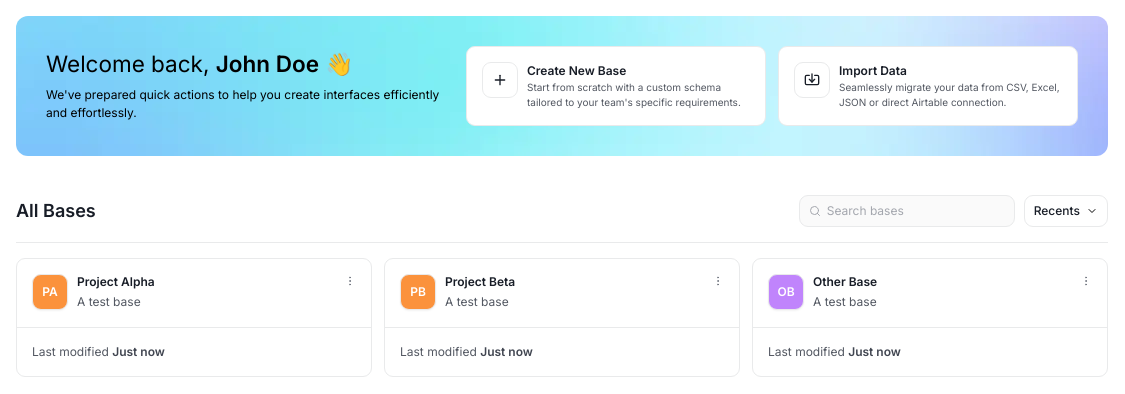
Test: HomePage › Search and Filter › should filter bases by search term in title
Type "Alpha" into the field with placeholder "Search bases" at [916, 211], box x1=827 y1=202 x2=1005 y2=220
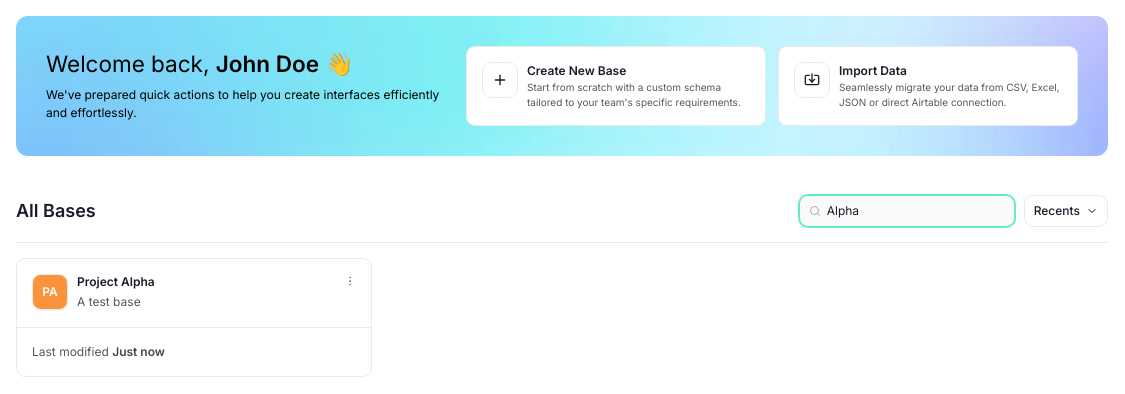
Expected: the heading "Project Alpha" is shown, x1=77 y1=274 x2=155 y2=289
Expected: the heading "Project Beta" is gone
Expected: the heading "Other Base" is gone
